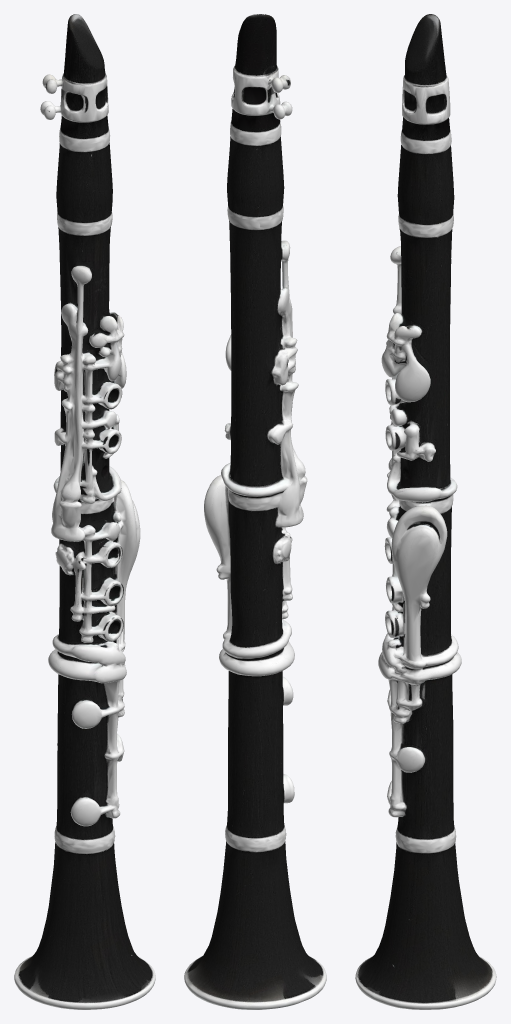
File: clarinet.glb
The picture shows the model from 3 angles, left to right: view 1: azimuth 30°, elevation 25°; view 2: azimuth 150°, elevation 25°; view 3: azimuth 270°, elevation 25°; orthographic projection.
Bounding box in the file's own units: 0.2529 × 1.9 × 0.2531.
1 material, 1 textured.
